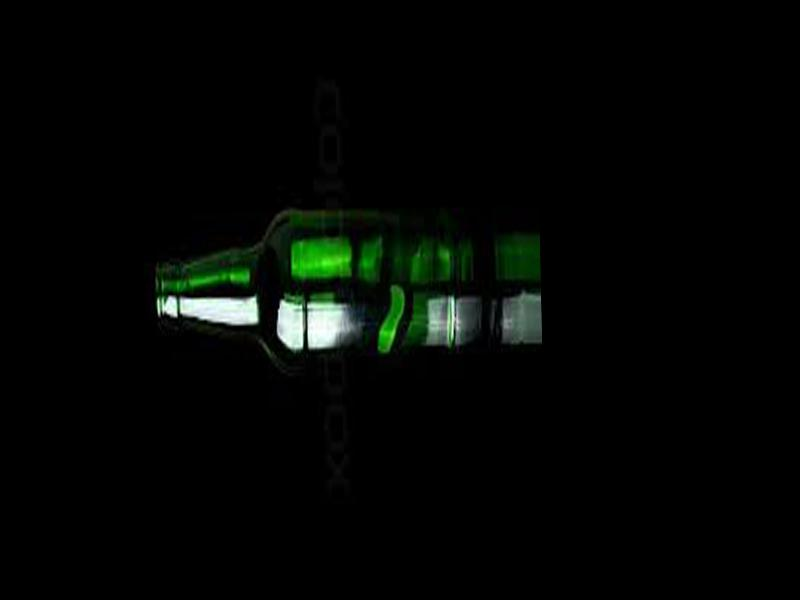Beer: (154, 204, 457, 354)
